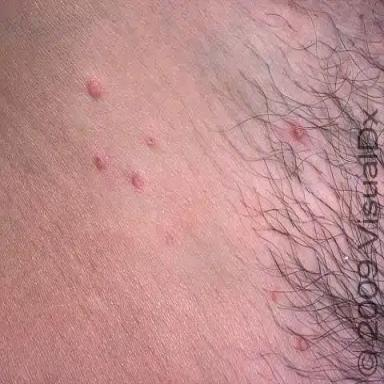Molluscum-Contagiosum: (291, 124, 307, 142), (132, 171, 145, 190), (86, 81, 100, 98), (94, 156, 107, 170), (270, 291, 283, 304), (297, 336, 309, 350), (145, 135, 156, 148)
